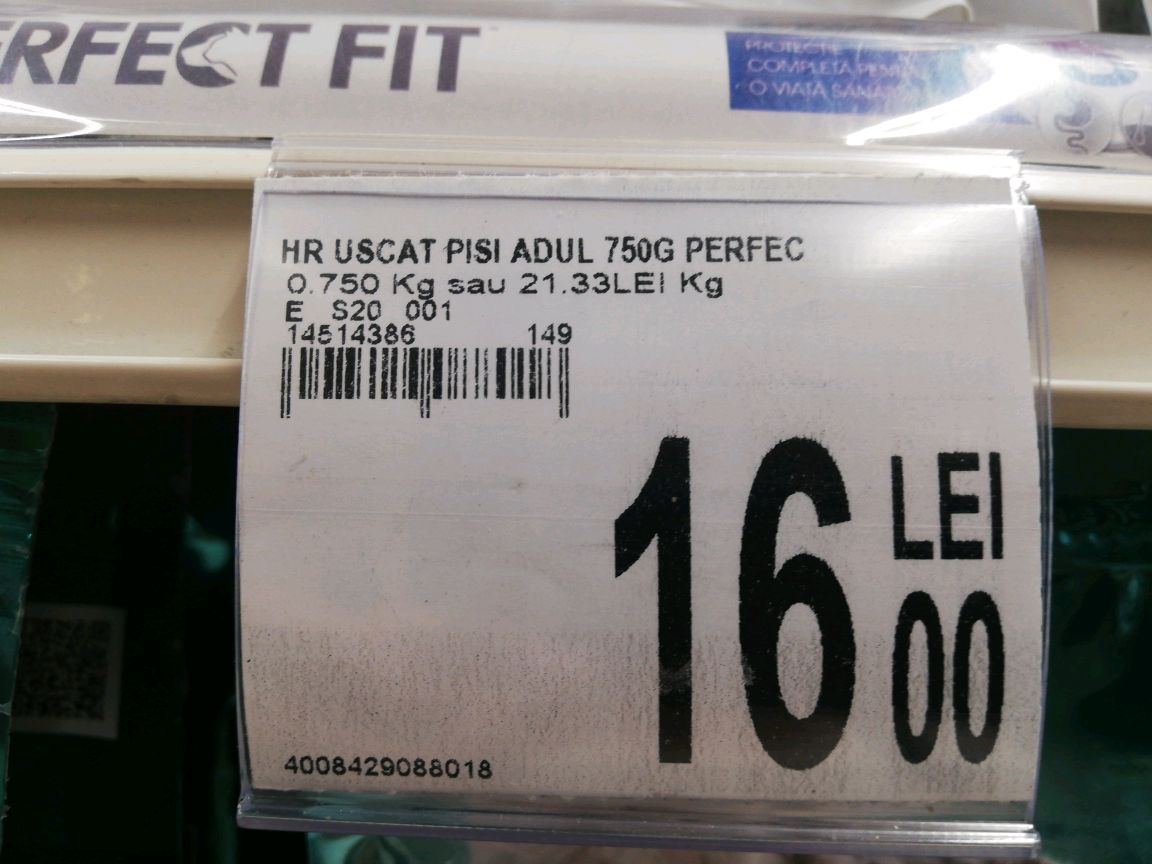price_bani: (877, 584, 1021, 784)
price_lei: (602, 419, 865, 786)
price_tag: (233, 171, 1047, 820)
product_id: (271, 742, 508, 788)
product_name: (268, 229, 813, 267)
